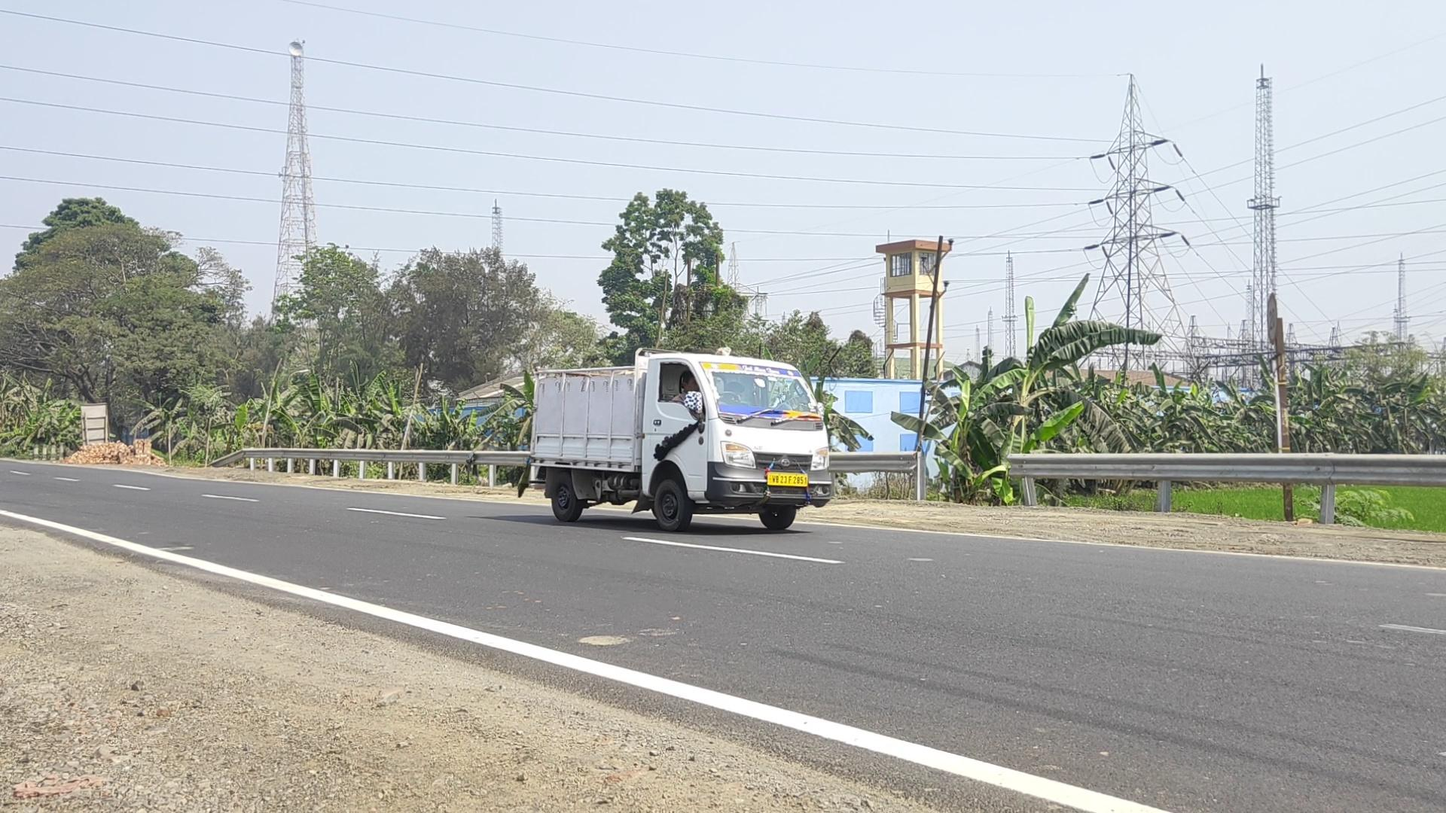van: (529, 347, 832, 533)
